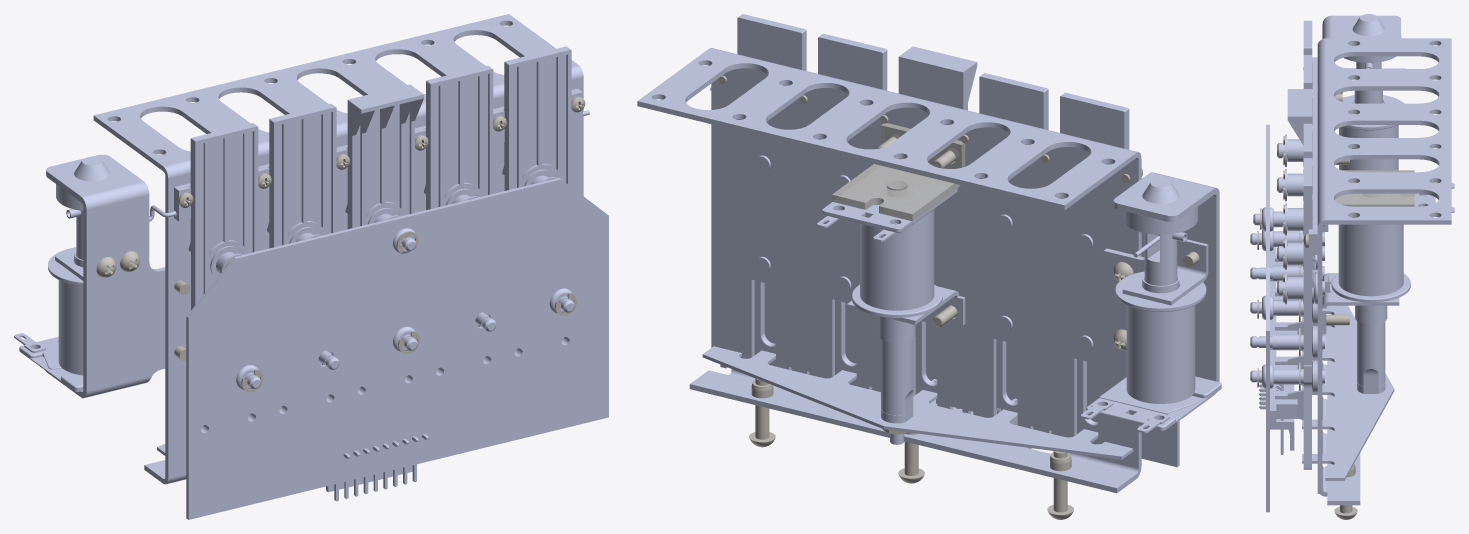
Rendered from Drop Target Bank, 5 Targets (A-16947).fbx.
3 views of the same model, side by side, from view 1: azimuth 30°, elevation 25°; view 2: azimuth 150°, elevation 25°; view 3: azimuth 270°, elevation 25° (orthographic). The views are drawn at different scales.
Visible parts, largest first — view 1: PCB, Target 03-8036 (×4), 5-Bank Sub-Assembly A-16950, Lever Coil Bracket Assembly A-16446, Target 03-8033, Coil AE-27-1200, 5-Bank Step Strip, Bumper Plug 02-2364; view 2: 5-Bank Sub-Assembly A-16950, Target 03-8036 (×4), Coil AE-27-1200, 5 Bank Reset Plate A-16476, Coil AE-26-1200, Lever Coil Bracket Assembly A-16446, PCB, Coil Stop sys11 Droptarget, Target 03-8033, Plunger 02-3972-1, round head screw_ai (×3), Coil Retaining Bracekt 01-8-508-T (+4 smaller); view 3: 5-Bank Sub-Assembly A-16950, 5 Bank Reset Plate A-16476, Coil AE-26-1200, Target 03-8036 (×4), Turning C (×5), Plunger 02-3972-1, Comp Spring 10-392 (×5), PCB, Opto (×3), Coil AE-27-1200, Lever Coil Bracket Assembly A-16446, 5-Bank Step Strip (+11 smaller).
Boxes of the visible parts, x1=… form: PCB: x1=186, y1=178, x2=608, y2=519; Target 03-8036 (×4): x1=188, y1=46, x2=571, y2=364; 5-Bank Sub-Assembly A-16950: x1=93, y1=14, x2=583, y2=484; Lever Coil Bracket Assembly A-16446: x1=46, y1=154, x2=165, y2=398; Target 03-8033: x1=345, y1=84, x2=423, y2=229; Coil AE-27-1200: x1=14, y1=247, x2=83, y2=391; 5-Bank Step Strip: x1=174, y1=88, x2=582, y2=221; Bumper Plug 02-2364: x1=56, y1=157, x2=110, y2=210; 5-Bank Sub-Assembly A-16950: x1=637, y1=48, x2=1141, y2=493; Target 03-8036 (×4): x1=737, y1=14, x2=1129, y2=432; Coil AE-27-1200: x1=1080, y1=271, x2=1221, y2=433; 5 Bank Reset Plate A-16476: x1=702, y1=346, x2=1133, y2=459; Coil AE-26-1200: x1=817, y1=183, x2=957, y2=317; Lever Coil Bracket Assembly A-16446: x1=1103, y1=172, x2=1219, y2=422; PCB: x1=754, y1=232, x2=1179, y2=467; Coil Stop sys11 Droptarget: x1=832, y1=123, x2=965, y2=221; Target 03-8033: x1=898, y1=46, x2=977, y2=392; Plunger 02-3972-1: x1=881, y1=339, x2=913, y2=444; round head screw_ai (×3): x1=749, y1=378, x2=1073, y2=519; Coil Retaining Bracekt 01-8-508-T: x1=1122, y1=239, x2=1208, y2=305; 5-Bank Sub-Assembly A-16950: x1=1317, y1=38, x2=1451, y2=505; 5 Bank Reset Plate A-16476: x1=1302, y1=305, x2=1394, y2=480; Coil AE-26-1200: x1=1331, y1=182, x2=1454, y2=302; Target 03-8036 (×4): x1=1287, y1=20, x2=1315, y2=469; Turning C (×5): x1=1250, y1=231, x2=1324, y2=392; Plunger 02-3972-1: x1=1357, y1=321, x2=1385, y2=393; Comp Spring 10-392 (×5): x1=1287, y1=139, x2=1303, y2=299; PCB: x1=1266, y1=124, x2=1269, y2=512; Opto (×3): x1=1270, y1=315, x2=1297, y2=425; Coil AE-27-1200: x1=1339, y1=95, x2=1404, y2=170; Lever Coil Bracket Assembly A-16446: x1=1322, y1=15, x2=1400, y2=231; 5-Bank Step Strip: x1=1308, y1=57, x2=1317, y2=261.
Bounding box in the file's own units: 20.47 × 15.18 × 7.99.
